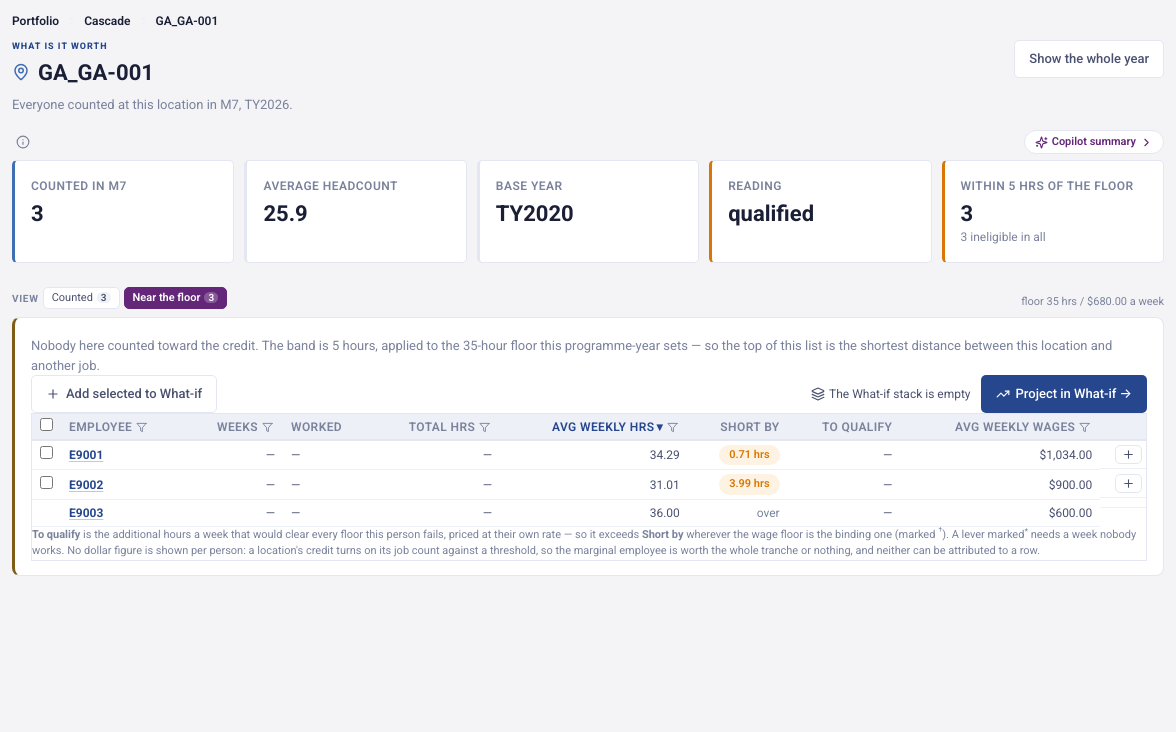
Test case: near-the-floor people go into the What-if stack (29 Sep) › adds one at a time, or ticks several; a person on pace offers no lever
This screenshot has width=1176, height=732.
Click the button named "Add E9001 to the What-if stack" at (1128, 454), box left=1115, top=445, right=1142, bottom=464
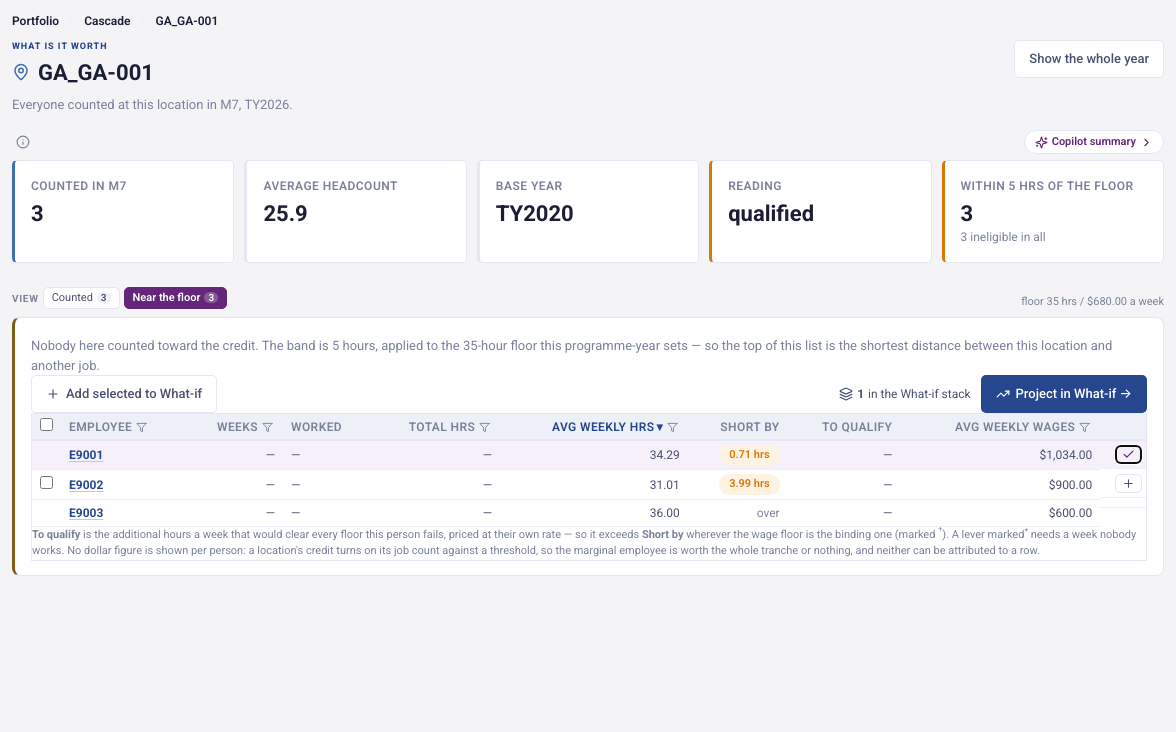
Expected: the button named "Remove E9001 from the What-if stack" is shown, left=1115, top=445, right=1142, bottom=464
Click the checkbox named "Select every row that can be added" at (46, 424), box left=40, top=418, right=53, bottom=431
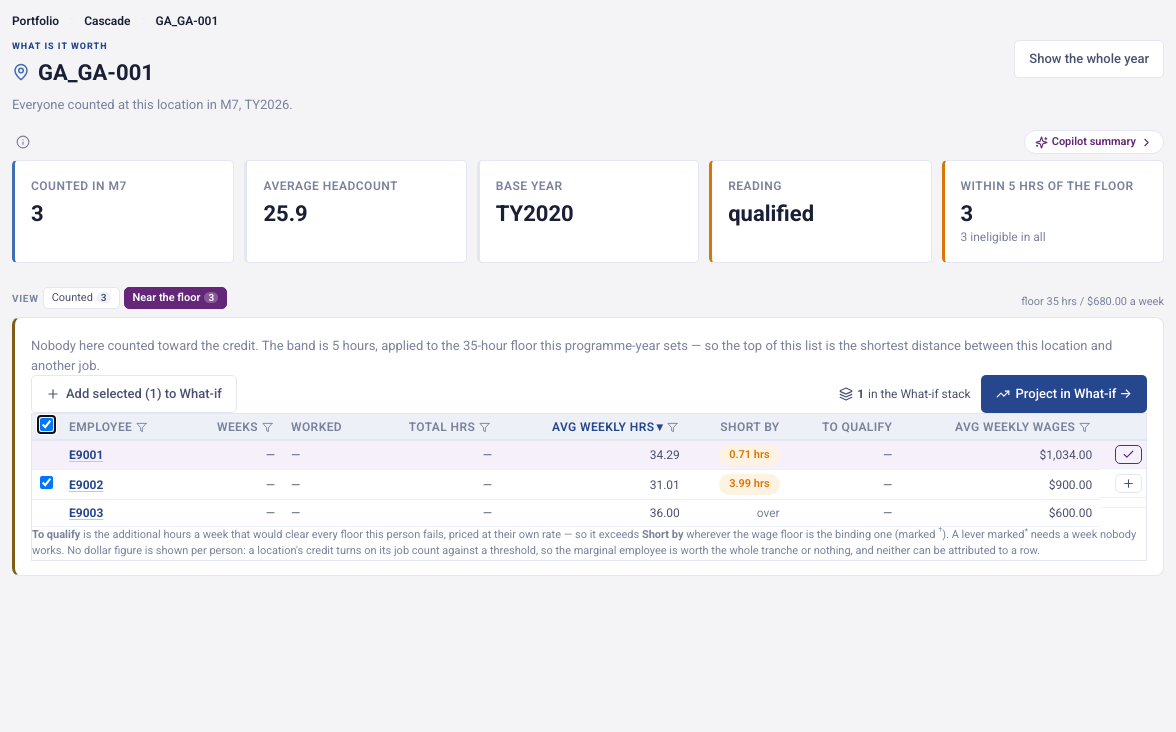
Click the button "Add selected (1) to What-if" at (134, 394), box left=31, top=375, right=237, bottom=413
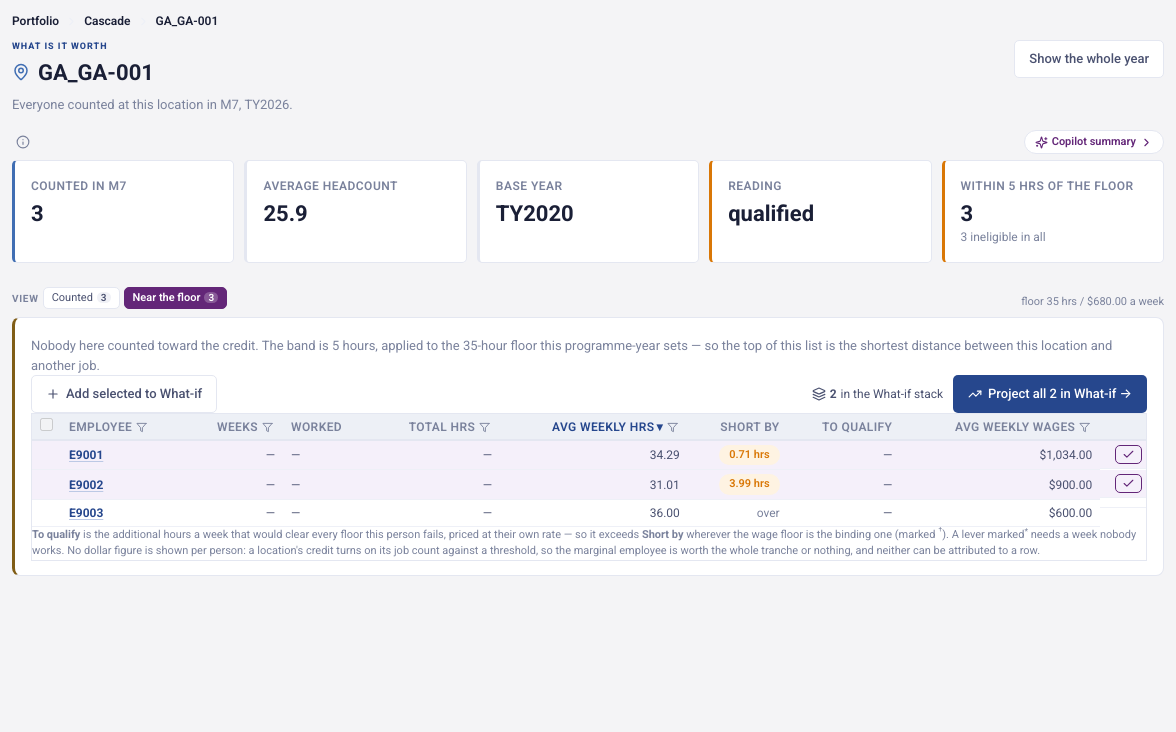
Expected: the text "2 in the What-if stack" is shown, left=812, top=385, right=943, bottom=403
